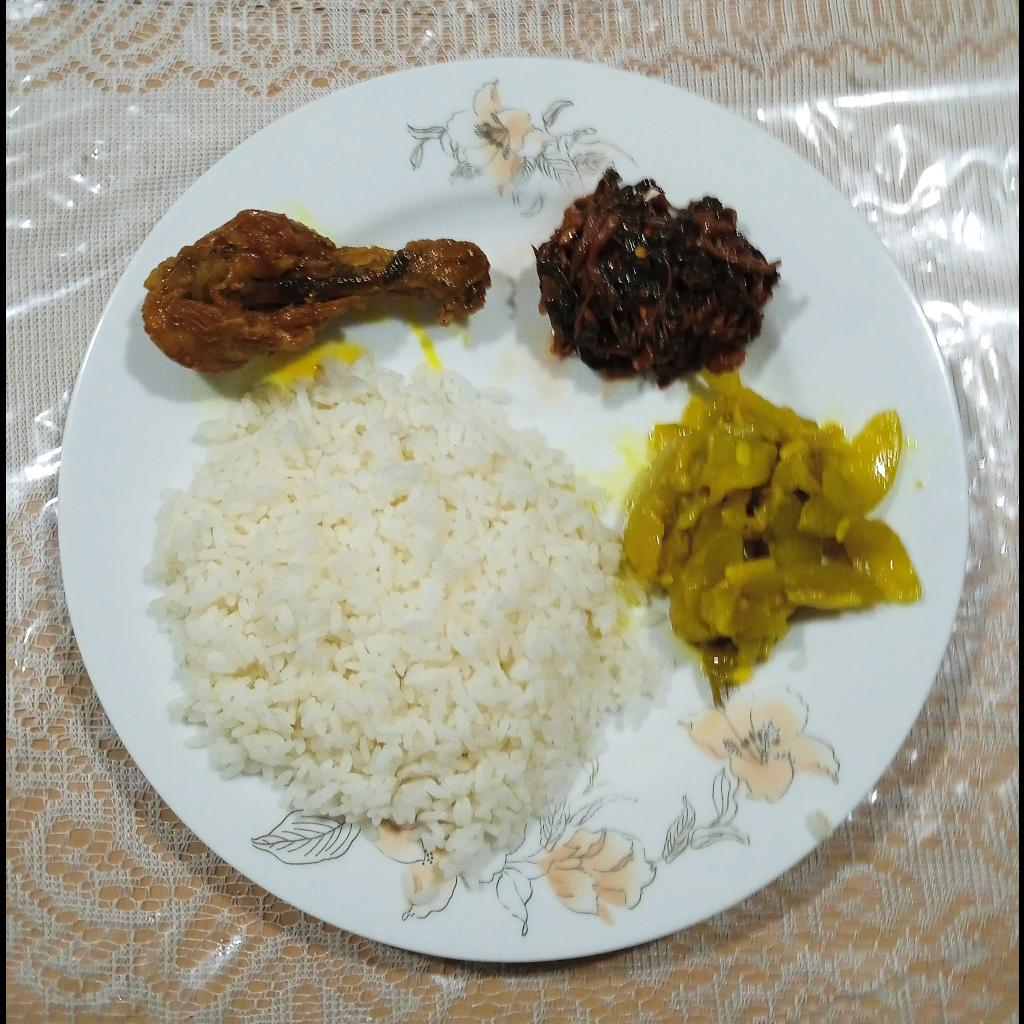chicken: (138, 207, 493, 378)
lal-shak: (530, 170, 778, 393)
lau: (618, 368, 919, 685)
rice: (136, 349, 662, 890)
